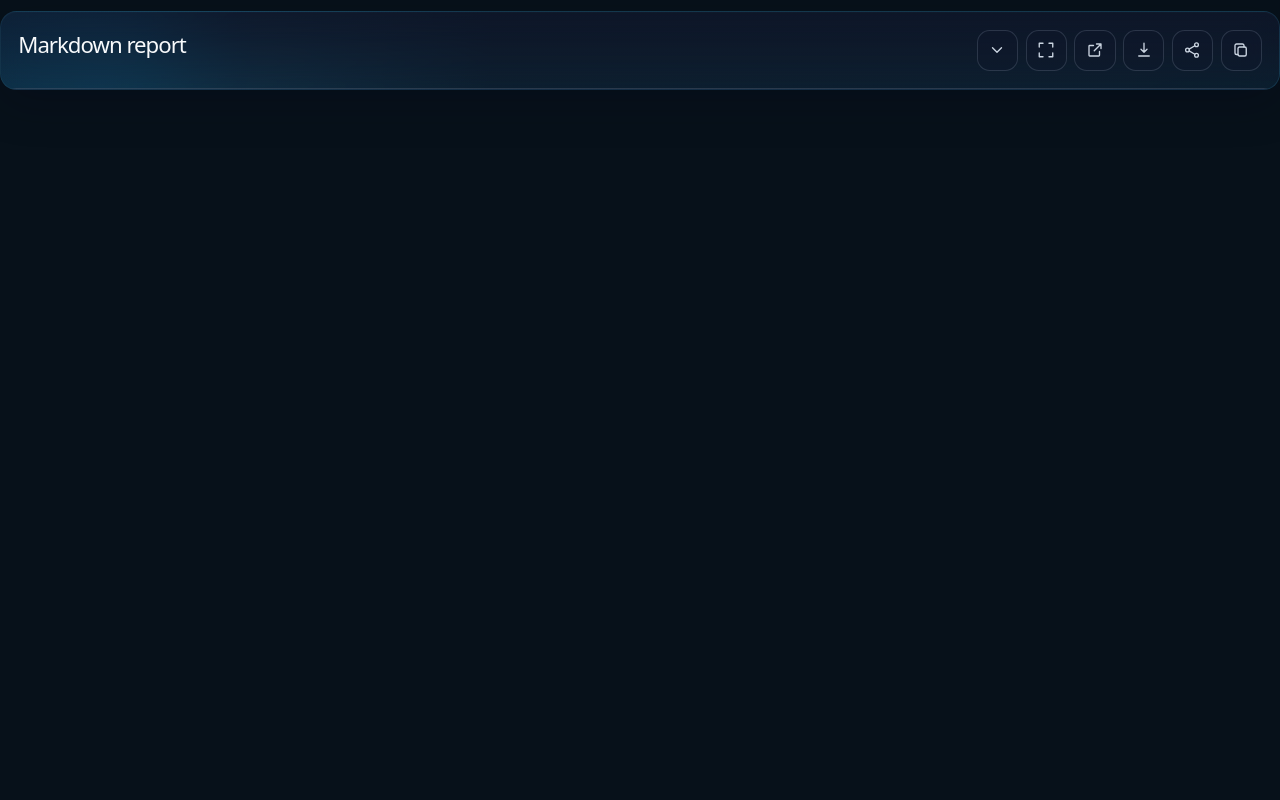
Scenario: AssistantDeliverableBlock › collapses only the inline body while toolbar actions and full view remain available
Check: the header with test id "rich-deliverable-toolbar" is shown, box [1,12,1279,89]
Click the button named "Open full view" at (1046, 50), box [1026,30,1067,71]
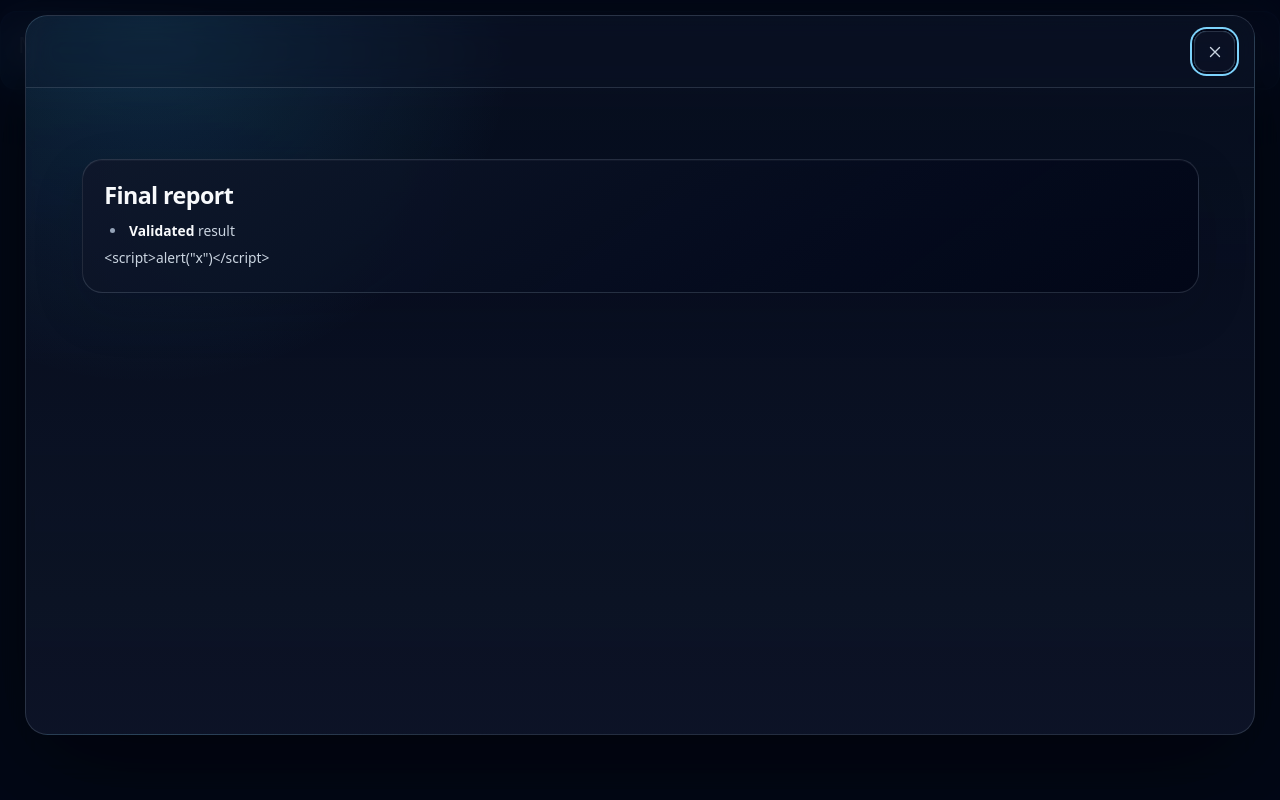
Check: the text "Validated" is shown, box [129,221,194,240]
Click the button named "Close" at (1215, 52), box [1194,31,1235,72]
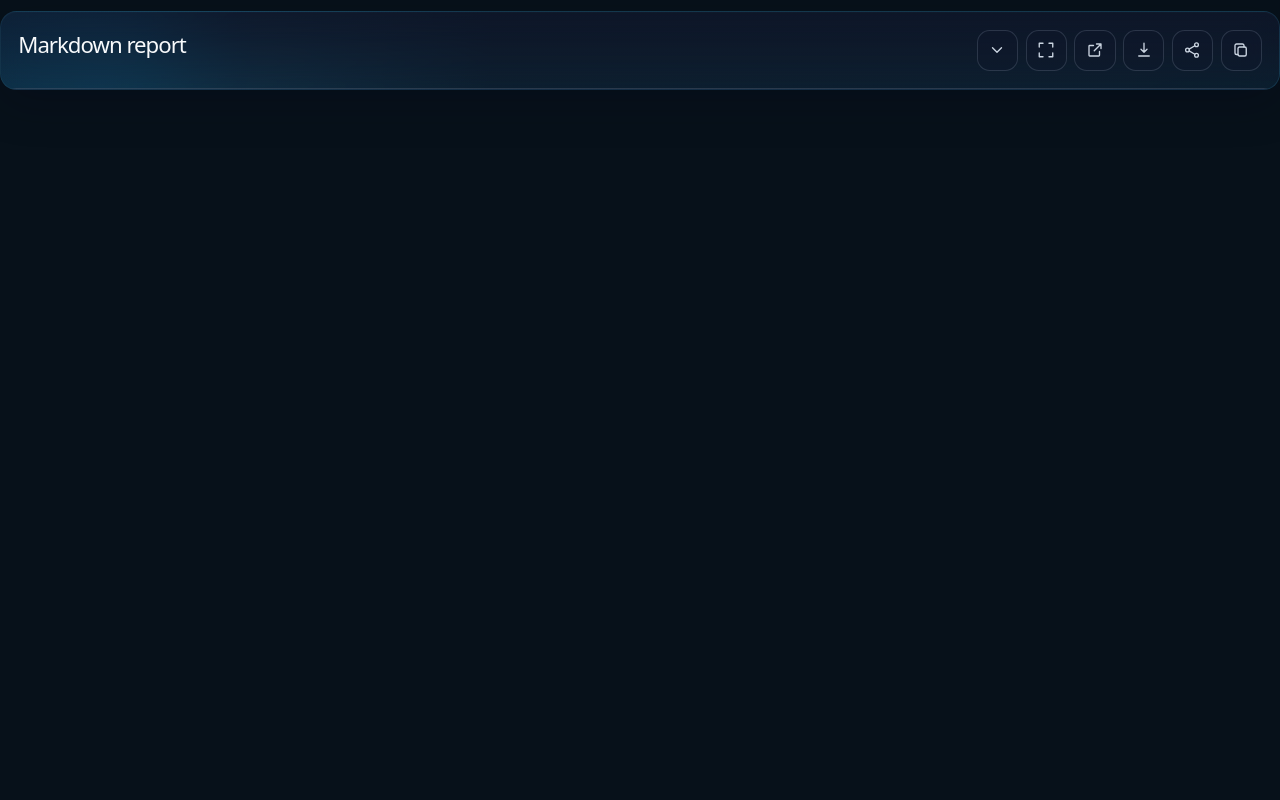
Click the button named "Expand document" at (997, 50), box [977,30,1018,71]
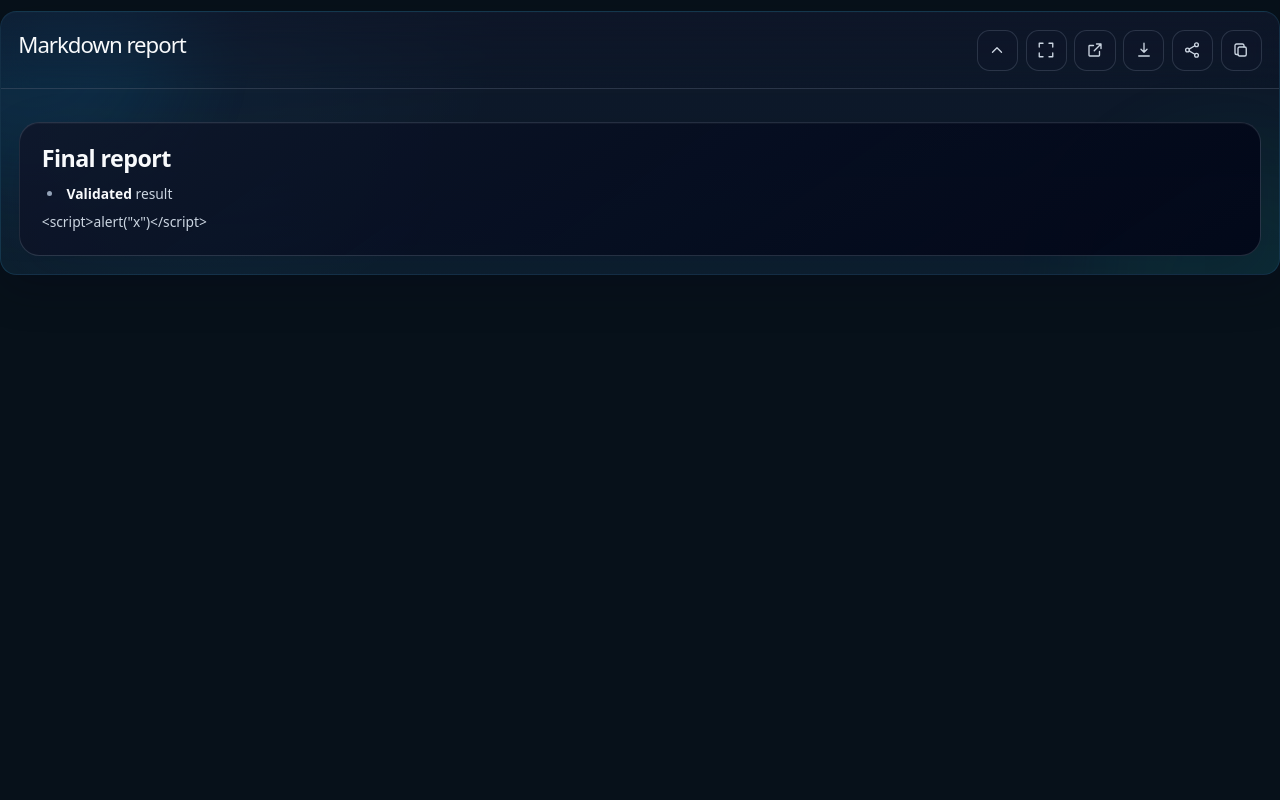
Check: the button named "Collapse document" is expanded
Check: the element with test id "rich-deliverable-inline-document" is shown, box [1,89,1279,274]
Click the button named "Collapse document" at (997, 50), box [977,30,1018,71]
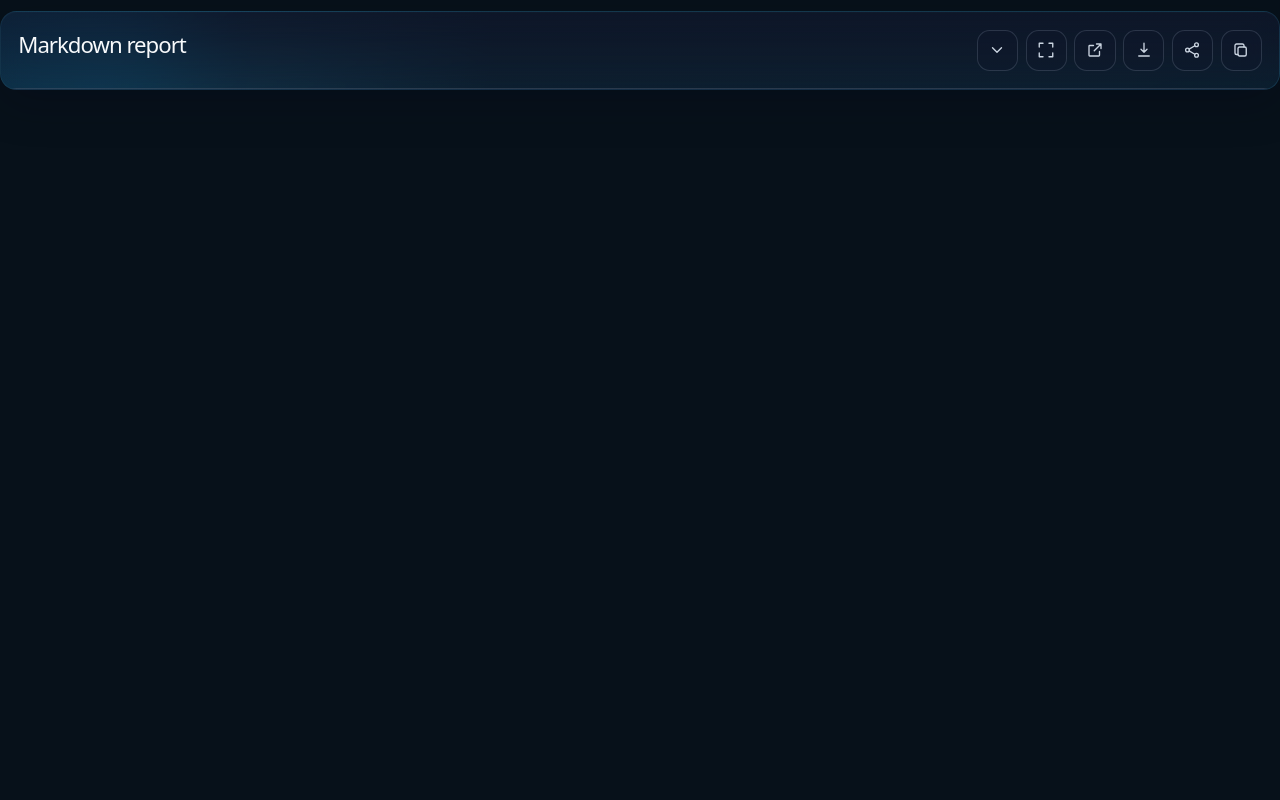
Check: the element with test id "rich-deliverable-inline-document" is gone
